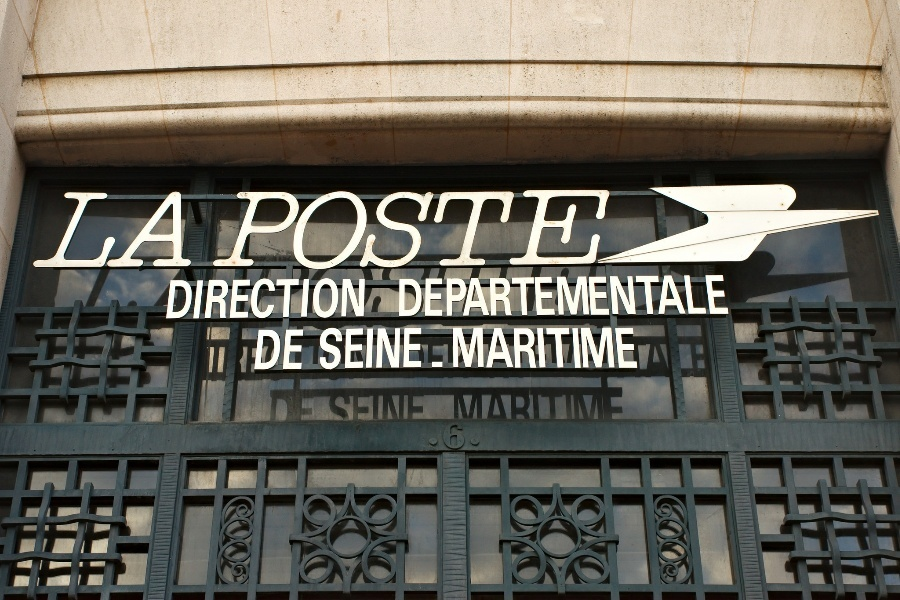text: (241, 190, 256, 272), (257, 190, 272, 272), (273, 190, 288, 272), (289, 190, 304, 272), (305, 190, 320, 272), (321, 190, 336, 272), (337, 190, 352, 272), (353, 190, 368, 272), (369, 190, 384, 272), (385, 190, 400, 272), (401, 190, 416, 272), (417, 190, 432, 272), (433, 190, 448, 272), (449, 190, 464, 272), (465, 190, 480, 272), (481, 190, 496, 272), (497, 190, 512, 272), (513, 190, 528, 272), (529, 190, 544, 272), (545, 190, 560, 272), (561, 190, 576, 272), (577, 190, 592, 272), (593, 190, 608, 272), (65, 190, 80, 271), (81, 190, 96, 271), (97, 190, 112, 271), (113, 190, 128, 271), (129, 190, 144, 271), (145, 190, 160, 271), (161, 190, 176, 271), (177, 190, 192, 271), (53, 190, 64, 271), (273, 328, 288, 372), (289, 328, 304, 372), (321, 327, 336, 371), (337, 327, 352, 371), (353, 327, 368, 371), (369, 327, 384, 371), (385, 327, 400, 371), (401, 327, 416, 371), (417, 327, 432, 371), (433, 327, 448, 371), (449, 327, 464, 371), (465, 327, 480, 371), (481, 327, 496, 371), (497, 327, 512, 371), (513, 327, 528, 371), (529, 327, 544, 371), (545, 327, 560, 371), (561, 327, 576, 371), (577, 327, 592, 371), (593, 327, 608, 371), (609, 327, 624, 371), (177, 277, 192, 320), (193, 277, 208, 320), (209, 277, 224, 320), (225, 277, 240, 320), (241, 277, 256, 320), (257, 277, 272, 320), (273, 277, 288, 320), (289, 277, 304, 320), (305, 277, 320, 320), (321, 277, 336, 320), (337, 277, 352, 320), (401, 274, 416, 317), (417, 274, 432, 317), (433, 274, 448, 317), (449, 274, 464, 317), (465, 274, 480, 317), (481, 274, 496, 317), (497, 274, 512, 317), (513, 274, 528, 317), (529, 274, 544, 317), (545, 274, 560, 317), (561, 274, 576, 317), (577, 274, 592, 317), (593, 274, 608, 317), (609, 274, 624, 317), (625, 274, 640, 317), (641, 274, 656, 317), (657, 274, 672, 317), (673, 274, 688, 317), (689, 274, 704, 317), (705, 274, 720, 317), (258, 328, 272, 372), (625, 327, 639, 371), (353, 277, 367, 320), (609, 391, 625, 420), (337, 391, 352, 420), (353, 391, 368, 420), (369, 391, 384, 420), (385, 391, 400, 420), (401, 391, 416, 420), (465, 391, 480, 420), (481, 391, 496, 420), (497, 391, 512, 420), (513, 391, 528, 420), (529, 391, 544, 420), (545, 391, 560, 420), (561, 391, 576, 420), (577, 391, 592, 420), (593, 391, 608, 420), (449, 421, 464, 450), (721, 274, 731, 317), (273, 392, 288, 420), (289, 392, 304, 420), (236, 190, 240, 272), (169, 277, 176, 320), (417, 391, 427, 420), (454, 391, 464, 420), (305, 392, 315, 420), (193, 190, 196, 271), (330, 391, 336, 420), (609, 190, 611, 272), (443, 421, 448, 450), (305, 328, 307, 372), (398, 274, 400, 317), (465, 421, 466, 450), (271, 392, 272, 420)
